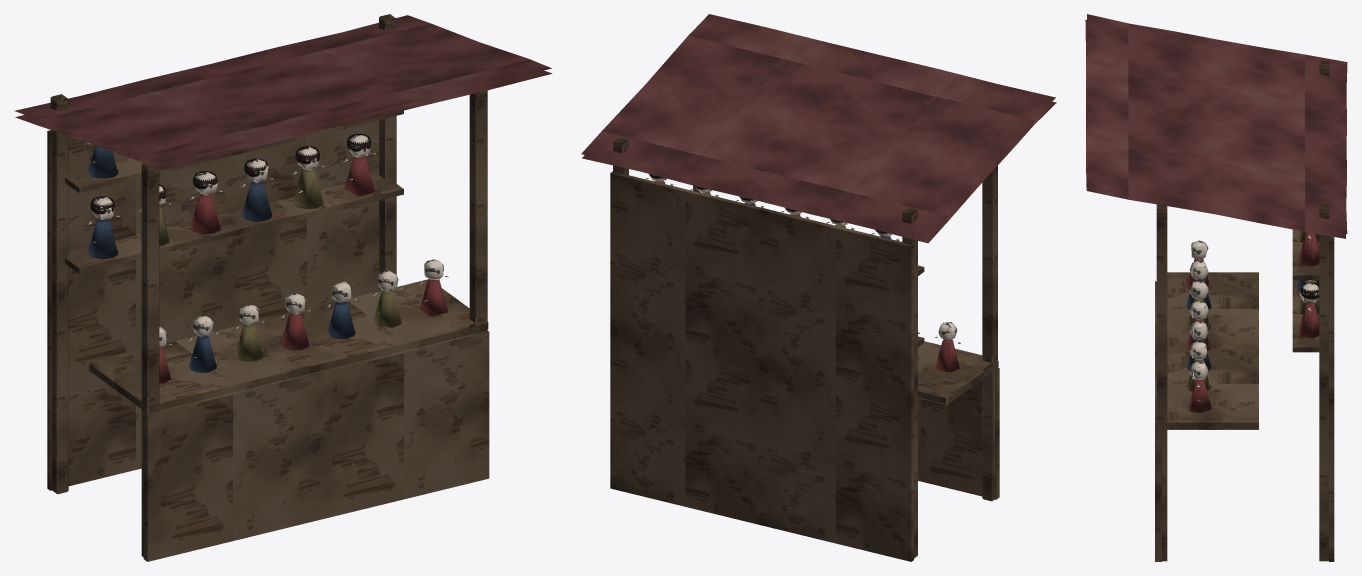
Rendered from W31_DollStall.glb.
The picture shows the model from 3 angles, left to right: view 1: azimuth 30°, elevation 25°; view 2: azimuth 150°, elevation 25°; view 3: azimuth 270°, elevation 25°; orthographic projection. The views are drawn at different scales.
Parts seen in each view (by area): view 1: W31_DollStall; view 2: W31_DollStall; view 3: W31_DollStall.
Part boxes in pixels (box(x1,y1,x2,y2)): W31_DollStall: box(14, 14, 552, 561); W31_DollStall: box(581, 14, 1056, 561); W31_DollStall: box(1085, 14, 1347, 561).
Size of the model in its own units: 1.91 by 2 by 1.23.
7 materials, 7 textured.
